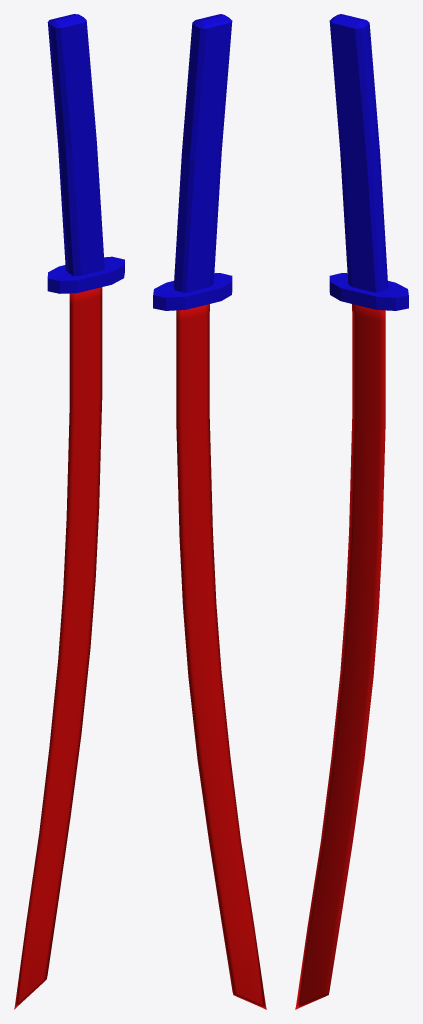
Rendered from Sword_MD.fbx.
3 renders of one model, left to right at view 1: azimuth 30°, elevation 25°; view 2: azimuth 210°, elevation 25°; view 3: azimuth 330°, elevation 25°, orthographic. The views are drawn at different scales.
Visible parts, largest first — view 1: Object001; view 2: Object001; view 3: Object001.
Boxes of the visible parts, left/top/right/bottom form: Object001: left=14, top=14, right=124, bottom=1009; Object001: left=153, top=14, right=266, bottom=1009; Object001: left=295, top=14, right=408, bottom=1009.
Size of the model in its own units: 36.49 by 308 by 10.7.
